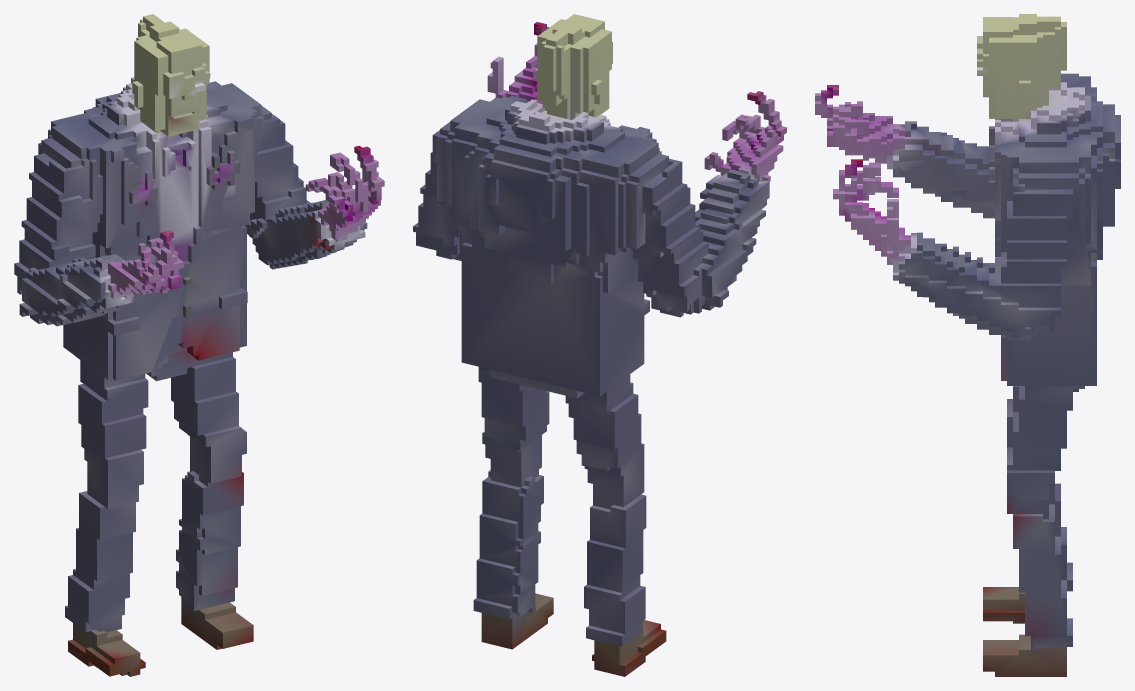
The model's file is necromancer-voxel.rigged.glb.
3 views of the same model, side by side, from view 1: azimuth 30°, elevation 25°; view 2: azimuth 150°, elevation 25°; view 3: azimuth 270°, elevation 25° (orthographic).
Visible parts, largest first — view 1: torso, armL_fore, armR_fore, armR_upper, legL_shin, head, legR_thigh, legR_shin, legL_thigh, footR, footL, armL_upper (+1 smaller); view 2: torso, armR_fore, head, legL_shin, legR_thigh, legR_shin, footR, footL, armR_upper, legL_thigh, armL_fore, armL_upper; view 3: torso, armL_fore, armR_fore, head, armL_upper, footL, legL_thigh, legL_shin, footR, legR_shin.
Part boxes in pixels (<box>): torso: <box>14,81,289,379</box>; armL_fore: <box>235,112,384,266</box>; armR_fore: <box>19,198,183,326</box>; armR_upper: <box>27,119,128,248</box>; legL_shin: <box>176,428,246,595</box>; head: <box>107,14,210,137</box>; legR_thigh: <box>75,331,151,508</box>; legR_shin: <box>68,452,143,591</box>; legL_thigh: <box>171,305,246,446</box>; footR: <box>65,573,145,676</box>; footL: <box>176,563,253,649</box>; armL_upper: <box>206,90,297,211</box>; torso: <box>413,95,728,398</box>; armR_fore: <box>666,91,786,310</box>; head: <box>505,14,612,131</box>; legL_shin: <box>477,435,543,585</box>; legR_thigh: <box>565,374,644,506</box>; legR_shin: <box>584,469,646,601</box>; footR: <box>584,586,666,676</box>; footL: <box>473,560,553,649</box>; armR_upper: <box>604,127,694,248</box>; legL_thigh: <box>478,367,549,452</box>; armL_fore: <box>418,22,549,207</box>; armL_upper: <box>426,100,527,174</box>; torso: <box>971,76,1120,385</box>; armL_fore: <box>833,159,1066,331</box>; armR_fore: <box>815,85,994,215</box>; head: <box>977,14,1084,123</box>; armL_upper: <box>989,134,1084,259</box>; footL: <box>983,516,1072,676</box>; legL_thigh: <box>1001,338,1084,472</box>; legL_shin: <box>1007,473,1066,597</box>; footR: <box>983,562,1072,623</box>; legR_shin: <box>1049,483,1066,566</box>.
Bounding box in the file's own units: 0.9913 × 2 × 0.8871.
